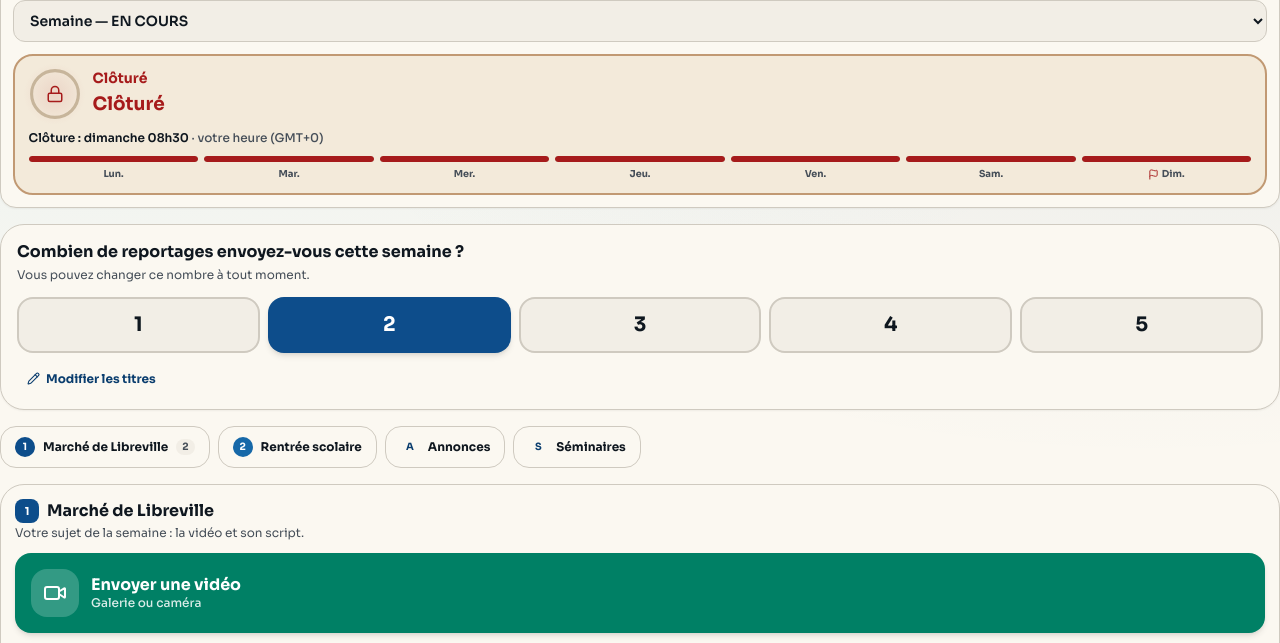
MobileUploaderView › renders reportage tabs and allows switching active tab
Expected: the button "1 Marché de Libreville 2" is shown, [0,426,210,468]
Switch to Reportage 2 : section vide, illustration + consigne.
Click the button "2 Rentrée scolaire". click: (297, 447)
box: [218,426,377,468]
(page scrolled)
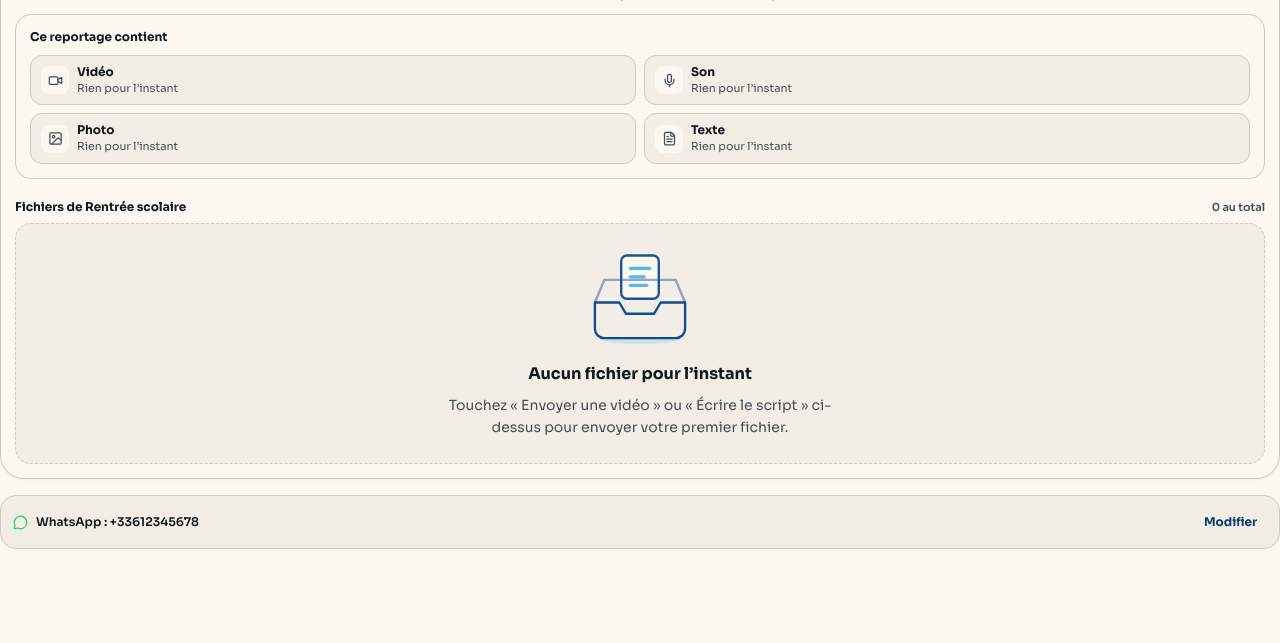
Now the text "Aucun fichier pour l’instant" is shown, box [528,362,752,386]
Now the text "pour envoyer votre premier fichier" is shown, box [449,396,831,436]
